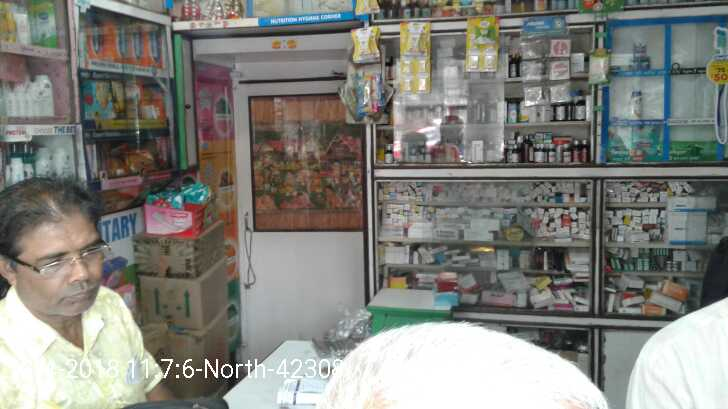vicks: (627, 42, 650, 68)
